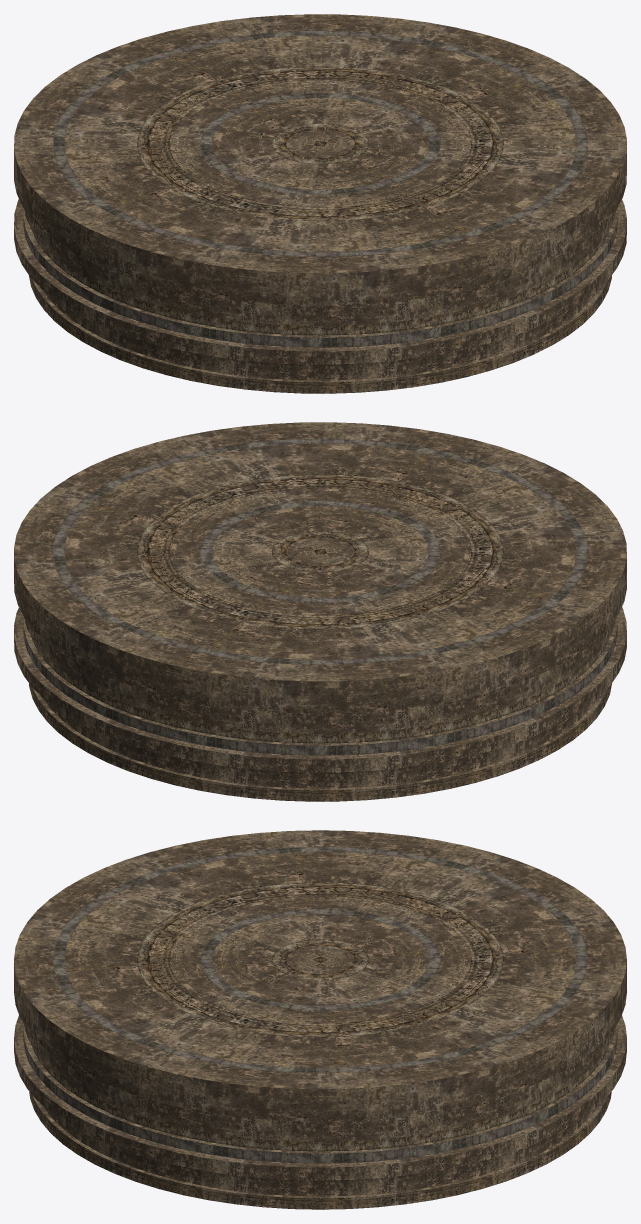
Rendered from materials_5_roof_4.fbx.
The picture shows the model from 3 angles, top to bottom: view 1: azimuth 30°, elevation 25°; view 2: azimuth 150°, elevation 25°; view 3: azimuth 270°, elevation 25°; orthographic projection.
Parts seen in each view (by area): view 1: materials_5_roof_4; view 2: materials_5_roof_4; view 3: materials_5_roof_4.
Boxes of the visible parts, x1,y1,x2,y2 form: materials_5_roof_4: (14,14,626,393); materials_5_roof_4: (14,422,626,801); materials_5_roof_4: (14,830,626,1209).
Size of the model in its own units: 640 by 146 by 640.
